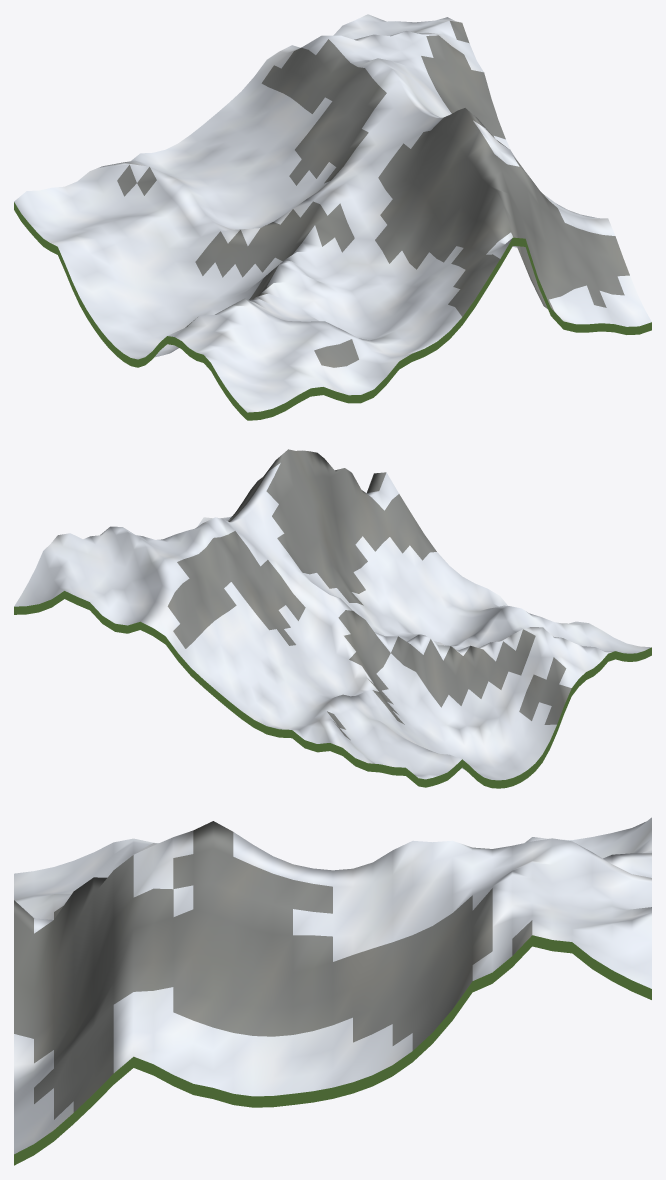
The model's file is chunk_6_0_lod1.glb.
3 views of the same model, one above another, from view 1: azimuth 30°, elevation 25°; view 2: azimuth 150°, elevation 25°; view 3: azimuth 270°, elevation 25° (orthographic). The views are drawn at different scales.
Parts seen in each view (by area): view 1: Surface_Snow, Surface_Gravel, Skirt; view 2: Surface_Snow, Surface_Gravel, Skirt; view 3: Surface_Gravel, Surface_Snow, Skirt.
Boxes of the visible parts, x1,y1,x2,y2 form: Surface_Snow: [14, 14, 651, 412]; Surface_Gravel: [117, 21, 629, 367]; Skirt: [14, 202, 651, 420]; Surface_Snow: [14, 463, 651, 780]; Surface_Gravel: [167, 449, 571, 740]; Skirt: [14, 591, 651, 788]; Surface_Gravel: [14, 821, 532, 1119]; Surface_Snow: [14, 817, 651, 1154]; Skirt: [14, 935, 651, 1165].
Size of the model in its own units: 256 by 133 by 256.
